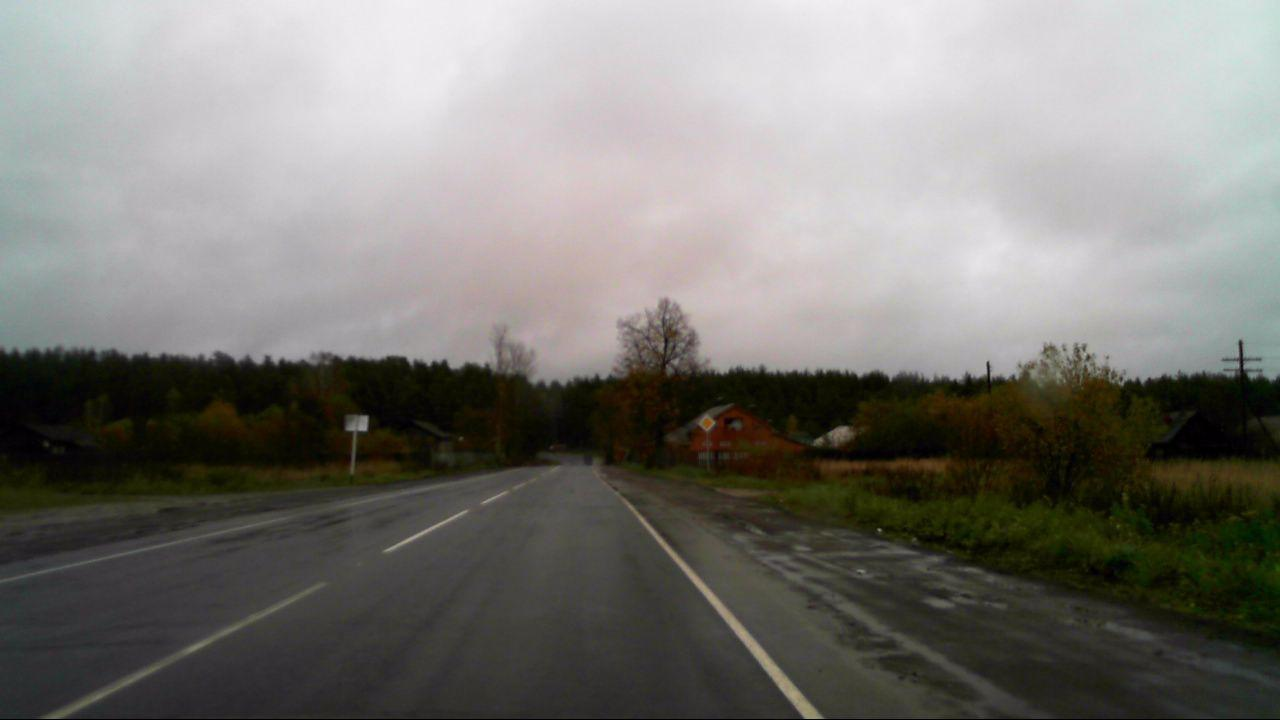2_1: (696, 413, 716, 432)
